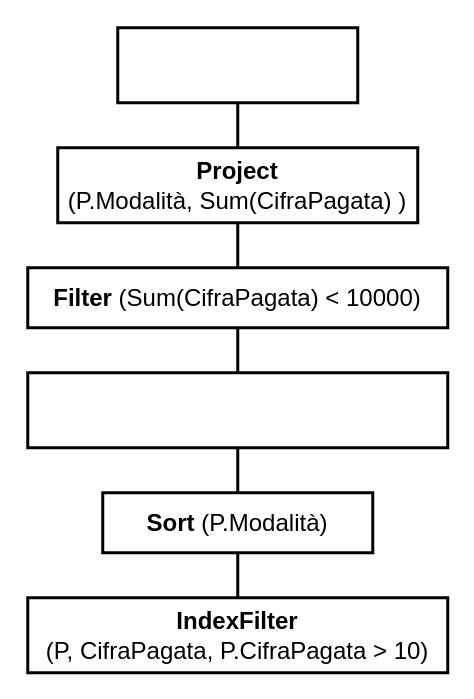
Some shapes in this 474 by 699 pixel diagram are drawn without their labels. The shapes that lost their labels are listed below. From the top down, each one's centre as x and y in pixels, then its label:
At [237,65]: "Sort ( Sum(CifraPagata) )".
At [237,409]: "GroupBy ( {P.Modalità}, { Sum(CifraPagata) } )".
